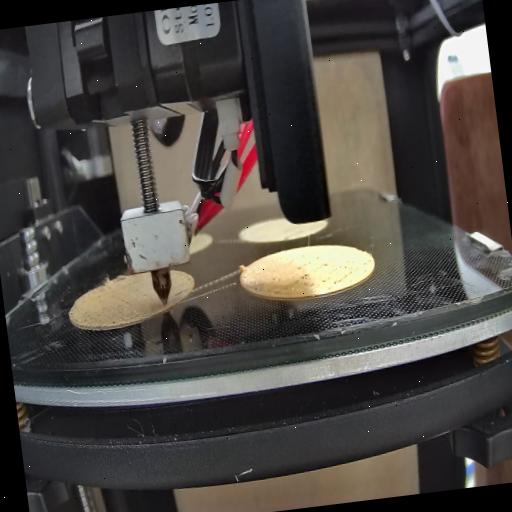under_extrusion: (294, 248, 371, 290), (70, 300, 146, 335), (252, 274, 286, 298), (174, 283, 195, 302)
